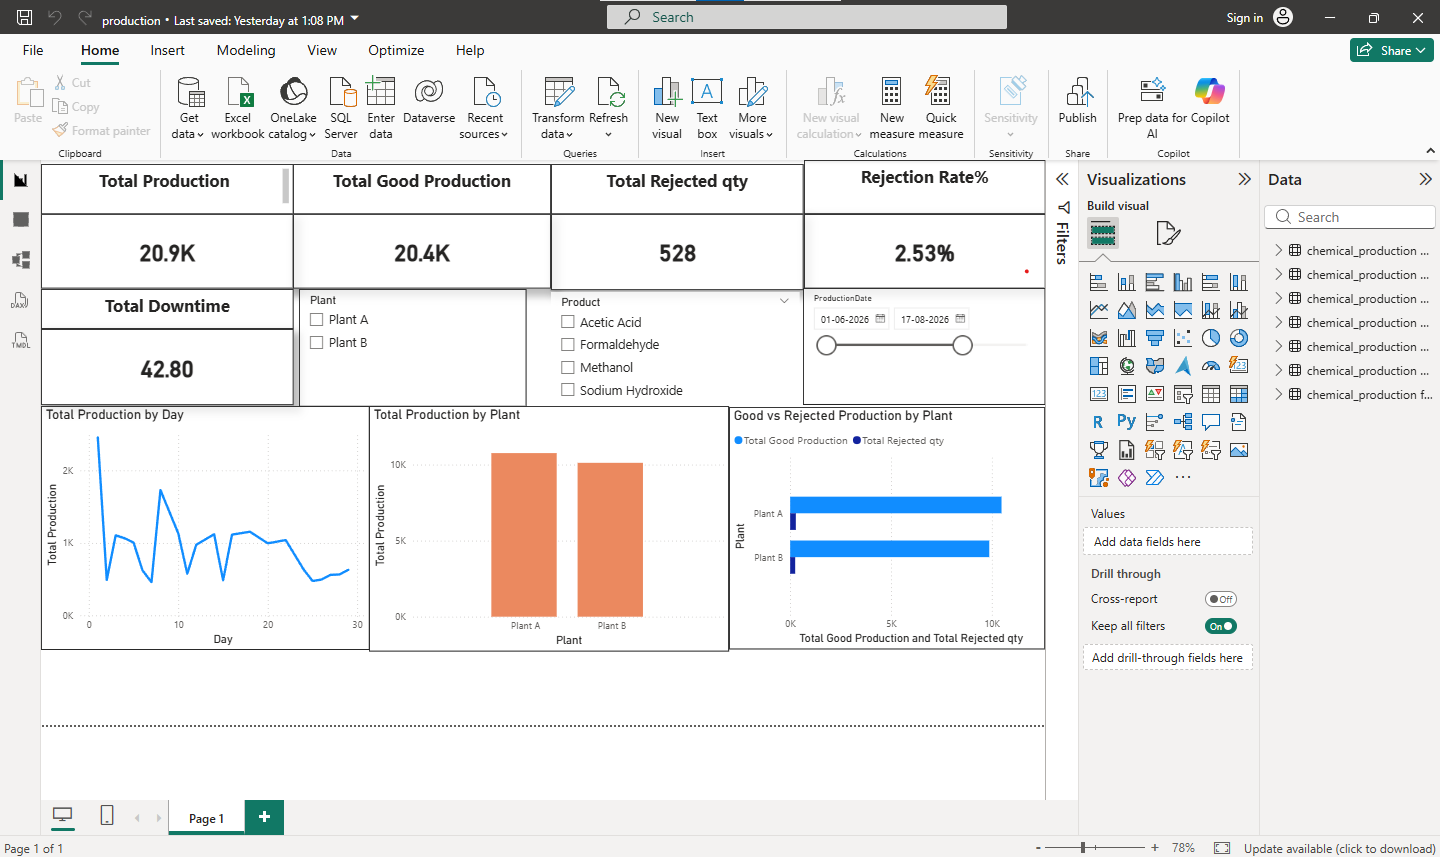

The page's visual inventory and layout, read from the dashboard file:
{"tool":"powerbi","page":{"name":"Page 1","canvas":[1280,720],"ordinal":0},"visuals":[{"type":"card","fields":{"Values":["chemical_production fact_production.Total Production"]},"box":[0,69,321.8,95.5],"z":0},{"type":"textbox","box":[7.1,5.3,321.8,44.2],"z":1000},{"type":"card","fields":{"Values":["chemical_production fact_production.Total Good Production"]},"box":[321.8,69,328.8,95.5],"z":2000},{"type":"textbox","box":[972.4,0,307.6,69],"z":3000},{"type":"textbox","box":[0,5.3,321.8,63.6],"z":4000},{"type":"textbox","box":[321.8,5.3,328.8,63.6],"z":5000},{"type":"card","fields":{"Values":["chemical_production fact_production.Total Rejected qty"]},"box":[650.7,68.4,322,96.6],"z":6000},{"type":"textbox","box":[7,453,322,150],"z":7000},{"type":"textbox","box":[329,238,322,150],"z":8000},{"type":"textbox","box":[650.6,5.3,321.8,63.6],"z":9000},{"type":"card","fields":{"Values":["chemical_production fact_production.Rejection Rate %"]},"box":[972.4,69,307.6,95.5],"z":10000},{"type":"textbox","box":[0,164.4,321.8,51.3],"z":11000},{"type":"card","fields":{"Values":["chemical_production fact_production.Total Downtime"]},"box":[0,215.7,321.8,97.2],"z":12000},{"type":"slicer","fields":{"Values":["chemical_production dim_plant.Plant"]},"box":[328.7,165,289.8,150.3],"z":13000},{"type":"slicer","fields":{"Values":["chemical_production dim_product.Product"]},"box":[650.7,167.7,316.6,147.6],"z":14000},{"type":"slicer","fields":{"Values":["chemical_production dim_date.ProductionDate"]},"box":[971.4,163.7,308.6,148.9],"z":15000},{"type":"lineChart","fields":{"Category":["chemical_production dim_date.ProductionDate.Variation.Date Hierarchy.Day"],"Y":["chemical_production fact_production.Total Production"]},"box":[0,313.3,419.2,311],"z":16000},{"type":"clusteredColumnChart","fields":{"Y":["chemical_production fact_production.Total Production"],"Category":["chemical_production dim_plant.Plant"]},"box":[418.6,314,458.9,312.6],"z":17000},{"type":"clusteredBarChart","title":"Good vs Rejected Production by Plant","fields":{"Category":["chemical_production dim_plant.Plant"],"Y":["chemical_production fact_production.Total Good Production","chemical_production fact_production.Total Rejected qty"]},"box":[877.5,315.3,402.5,308.6],"z":18000}]}

Visuals, with their boxes on the page's 1280x720 design canvas (x1, y1, x2, y2). These are canvas units, not pixel positions in the 1440x857 screenshot, which may show the page scaled, cropped or inside an application window:
card - chemical_production fact_production.Total Production: [0, 69, 322, 164]
textbox: [7, 5, 329, 50]
card - chemical_production fact_production.Total Good Production: [322, 69, 651, 164]
textbox: [972, 0, 1280, 69]
textbox: [0, 5, 322, 69]
textbox: [322, 5, 651, 69]
card - chemical_production fact_production.Total Rejected qty: [651, 68, 973, 165]
textbox: [7, 453, 329, 603]
textbox: [329, 238, 651, 388]
textbox: [651, 5, 972, 69]
card - chemical_production fact_production.Rejection Rate %: [972, 69, 1280, 164]
textbox: [0, 164, 322, 216]
card - chemical_production fact_production.Total Downtime: [0, 216, 322, 313]
slicer - chemical_production dim_plant.Plant: [329, 165, 618, 315]
slicer - chemical_production dim_product.Product: [651, 168, 967, 315]
slicer - chemical_production dim_date.ProductionDate: [971, 164, 1280, 313]
lineChart - chemical_production dim_date.ProductionDate.Variation.Date Hierarchy.Day x chemical_production fact_production.Total Production: [0, 313, 419, 624]
clusteredColumnChart - chemical_production fact_production.Total Production x chemical_production dim_plant.Plant: [419, 314, 878, 627]
"Good vs Rejected Production by Plant" clusteredBarChart: [878, 315, 1280, 624]
